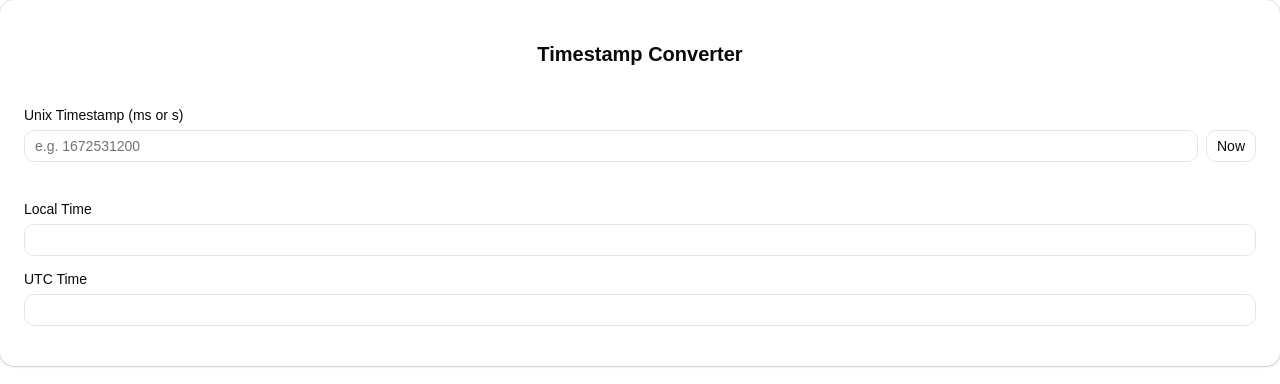
Test: TimestampConverter › handles invalid input gracefully
The image size is (1280, 384).
Type "abc" into the field with placeholder "e.g. 1672531200".
click(611, 146); type("abc")  # box [24,130,1198,162]
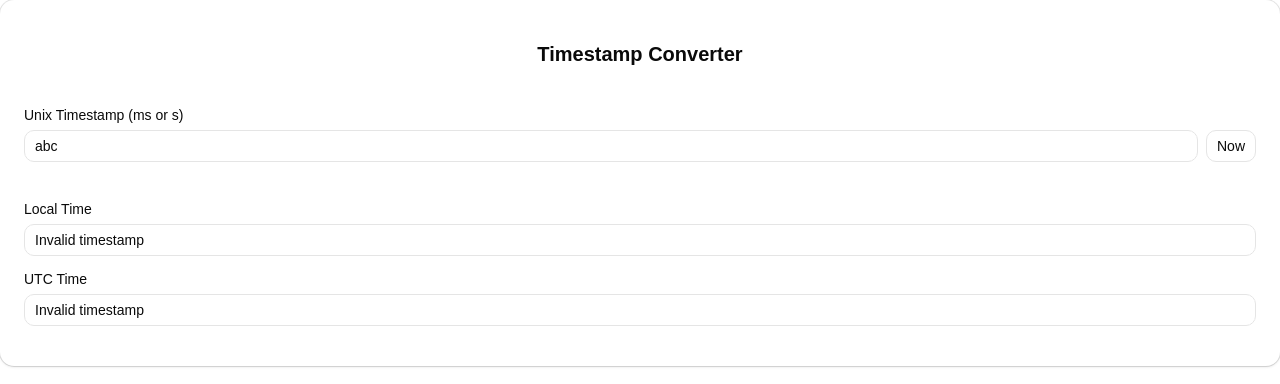
Expected: the field below "Local Time" holds "Invalid timestamp", [24,224,1256,256]
Expected: the field below "UTC Time" holds "Invalid timestamp", [24,294,1256,326]
